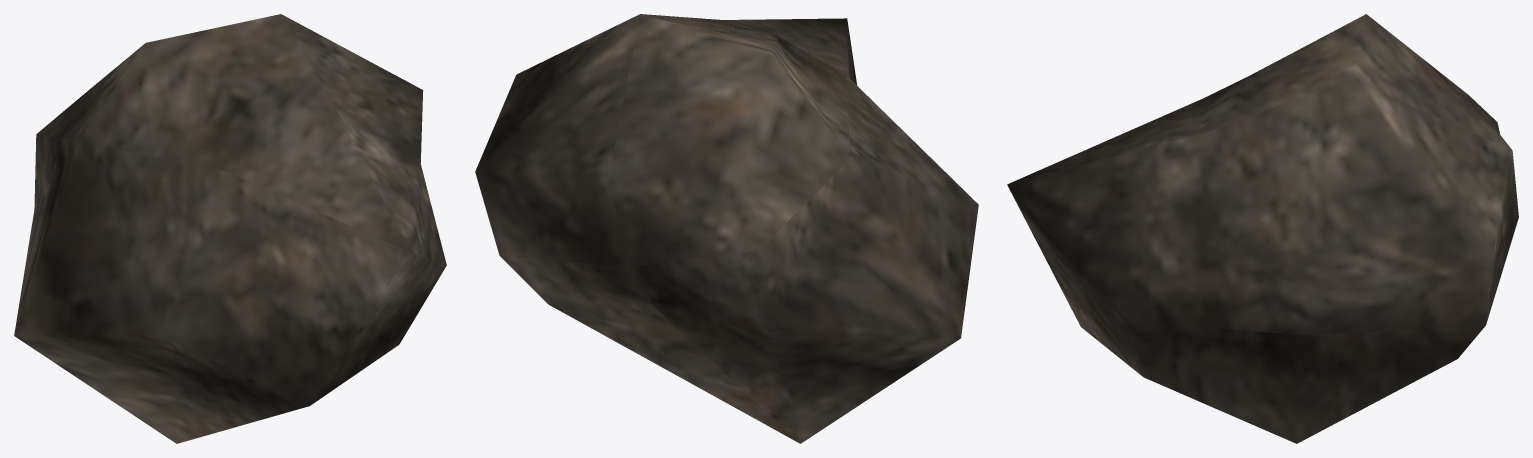
The model's file is Rock_08.glb.
3 renders of one model, left to right at view 1: azimuth 30°, elevation 25°; view 2: azimuth 150°, elevation 25°; view 3: azimuth 270°, elevation 25°, orthographic. The views are drawn at different scales.
Visible parts, largest first — view 1: Rock_08.001; view 2: Rock_08.001; view 3: Rock_08.001.
Boxes of the visible parts, x1=… form: Rock_08.001: x1=14, y1=14, x2=446, y2=443; Rock_08.001: x1=475, y1=14, x2=978, y2=443; Rock_08.001: x1=1007, y1=14, x2=1518, y2=443.
Size of the model in its own units: 0.7948 by 0.7092 by 0.7953.
Materials: 1 (1 with a texture image).
